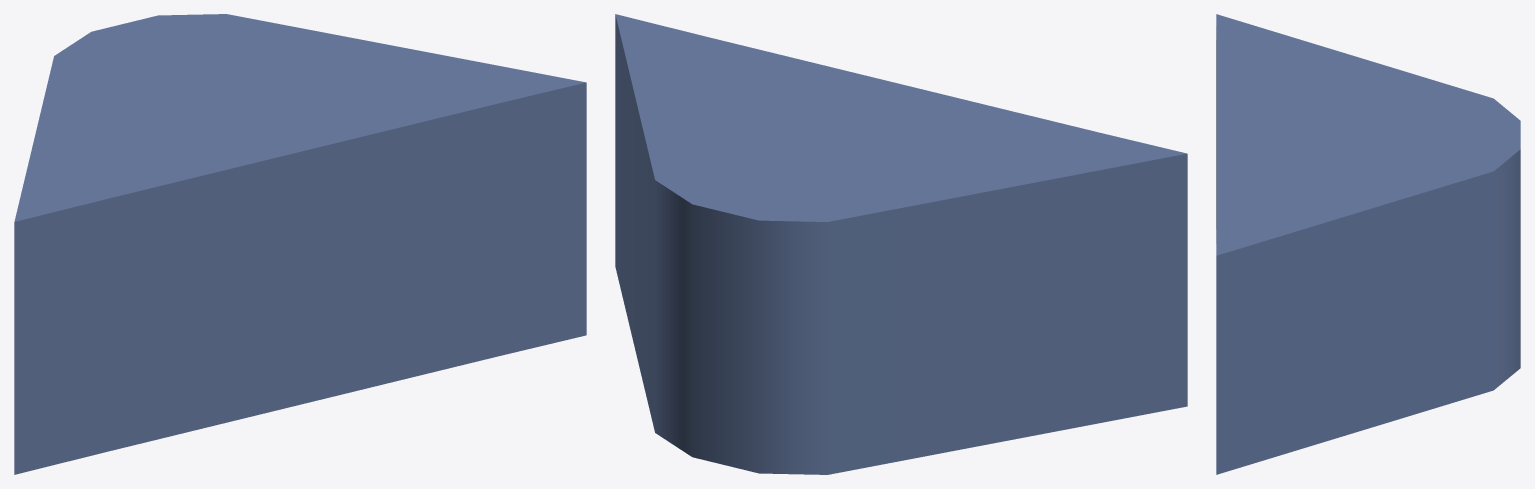
The model's file is Ring_01_Bumper_01.fbx.
3 renders of one model, left to right at view 1: azimuth 30°, elevation 25°; view 2: azimuth 150°, elevation 25°; view 3: azimuth 270°, elevation 25°, orthographic. The views are drawn at different scales.
Visible parts, largest first — view 1: Ring_01_Bumper_01; view 2: Ring_01_Bumper_01; view 3: Ring_01_Bumper_01.
Part boxes in pixels (x1,y1,x2,y2): Ring_01_Bumper_01: (14, 14, 586, 474); Ring_01_Bumper_01: (615, 14, 1187, 474); Ring_01_Bumper_01: (1216, 14, 1520, 474).
Bounding box in the file's own units: 18.84 × 7.96 × 10.03.
